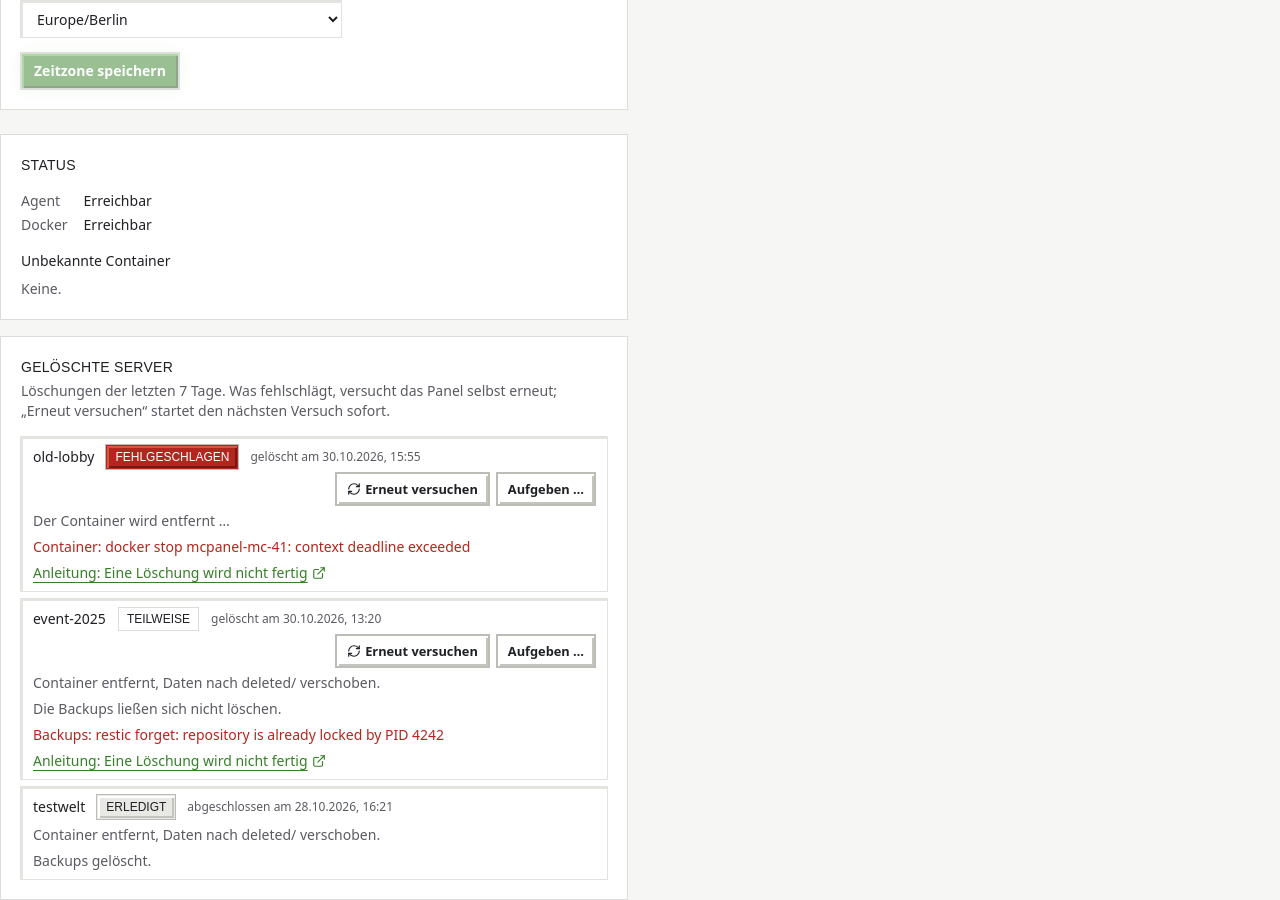
Test: deleted servers in the settings (#148) › abandons a deletion that cannot finish after a confirmation that the leftovers stay
(page scrolled)
expect the list named "Löschungen" is shown: met, box [21, 437, 607, 879]
Click the button with aria-label "Löschung von old-lobby aufgeben": (546, 489) [497, 473, 595, 505]
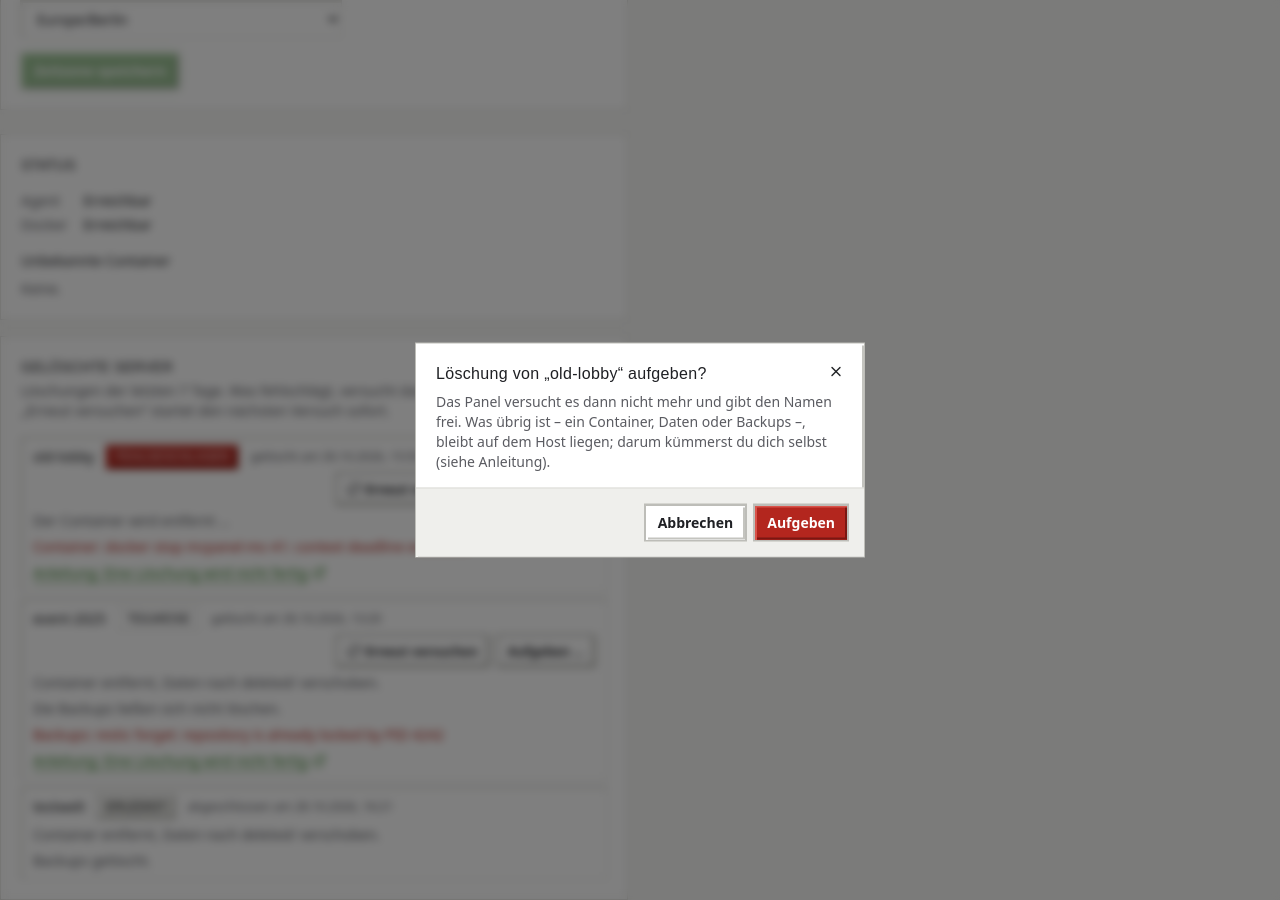
expect the dialog "Löschung von „old-lobby“ aufgeben?" shows "bleibt auf dem Host liegen": met, box [436, 392, 832, 470]
Click the button "Aufgeben": (801, 522) [754, 504, 848, 540]
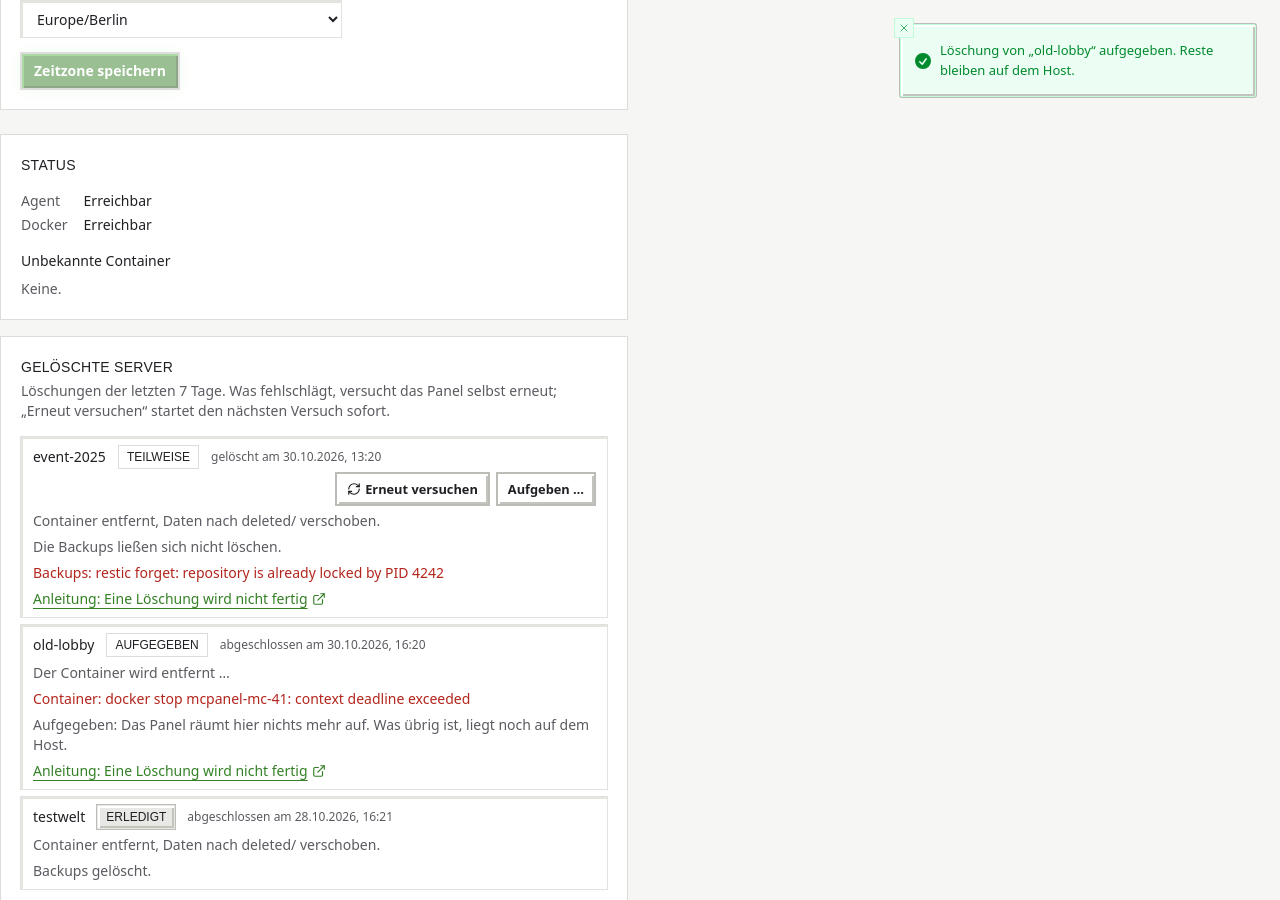
expect the text "Löschung von „old-lobby“ aufgegeben. Reste bleiben auf dem Host." is shown: met, box [940, 41, 1239, 80]
expect the list item that starts with "old-lobby" shows "Aufgegeben": met, box [115, 638, 199, 652]
expect the list item that starts with "old-lobby" shows "Das Panel räumt hier nichts mehr auf.": met, box [33, 715, 589, 754]
